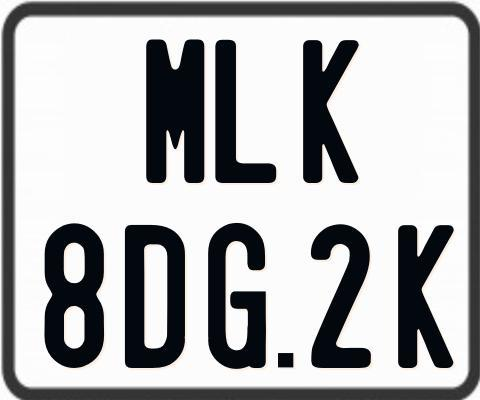2: (308, 221, 373, 367)
8: (41, 222, 107, 370)
D: (125, 223, 186, 368)
G: (206, 223, 265, 371)
K: (398, 225, 460, 371), (303, 37, 362, 180)
L: (215, 40, 279, 183)
M: (145, 37, 209, 186)
